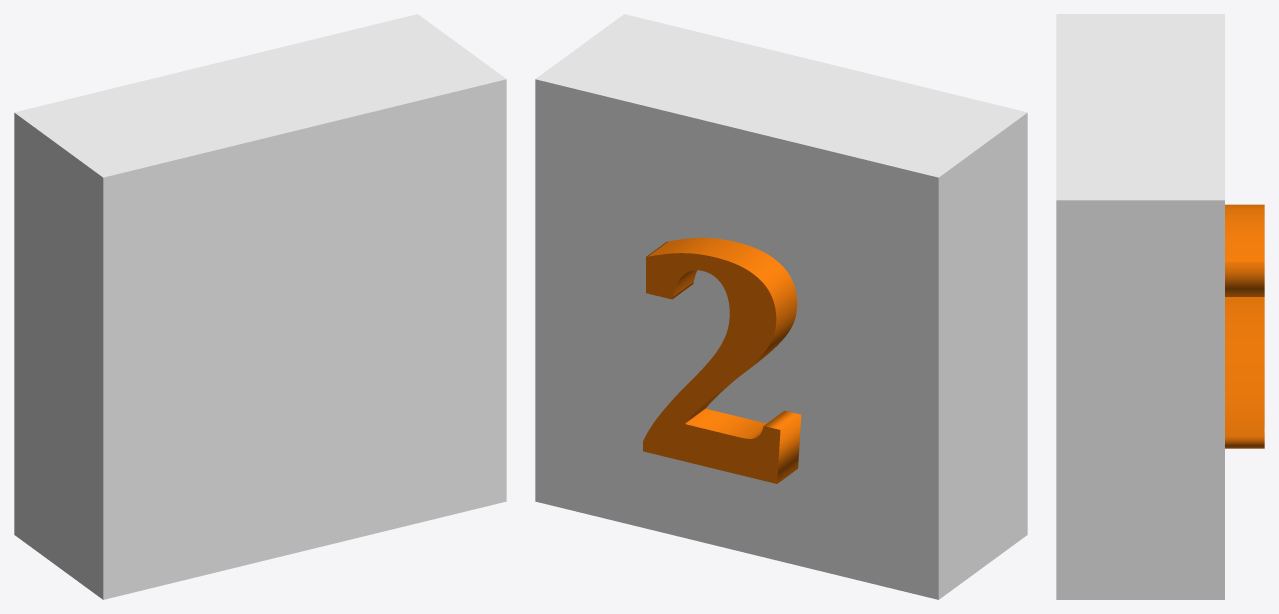
Rendered from number2.obj.
The picture shows the model from 3 angles, left to right: view 1: azimuth 30°, elevation 25°; view 2: azimuth 150°, elevation 25°; view 3: azimuth 270°, elevation 25°; orthographic projection. The views are drawn at different scales.
Visible parts, largest first — view 1: number2; view 2: number2; view 3: number2.
Boxes of the visible parts, x1,y1,x2,y2 form: number2: (14,14,506,599); number2: (535,14,1027,599); number2: (1056,14,1264,599).
Bounding box in the file's own units: 2 × 2 × 0.9446.
Materials: 1 (1 with a texture image).
